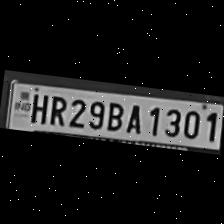0: (179, 106, 202, 139)
1: (198, 109, 220, 143), (142, 103, 163, 137)
2: (64, 94, 88, 128)
3: (160, 104, 182, 138)
9: (84, 96, 106, 130)
A: (122, 100, 145, 135)
B: (103, 98, 125, 132)
H: (26, 90, 48, 124)
R: (44, 92, 68, 126)
